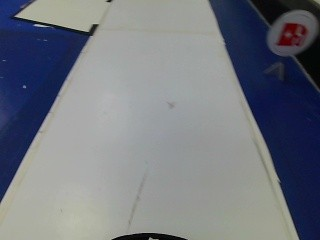battery: (266, 10, 313, 56)
